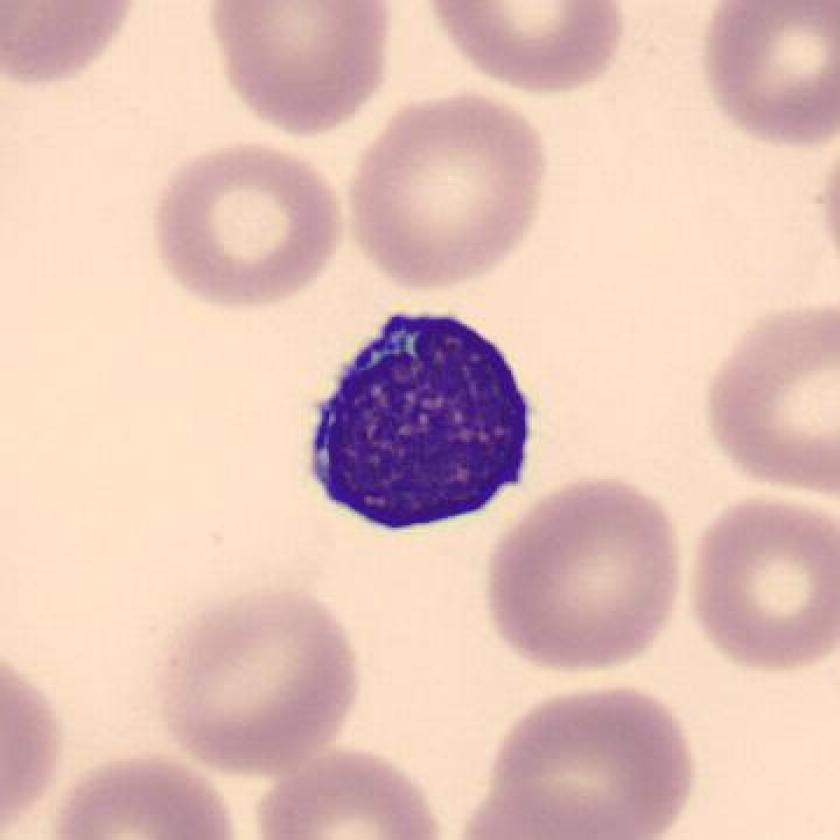lymphocyte: (300, 297, 545, 554)
